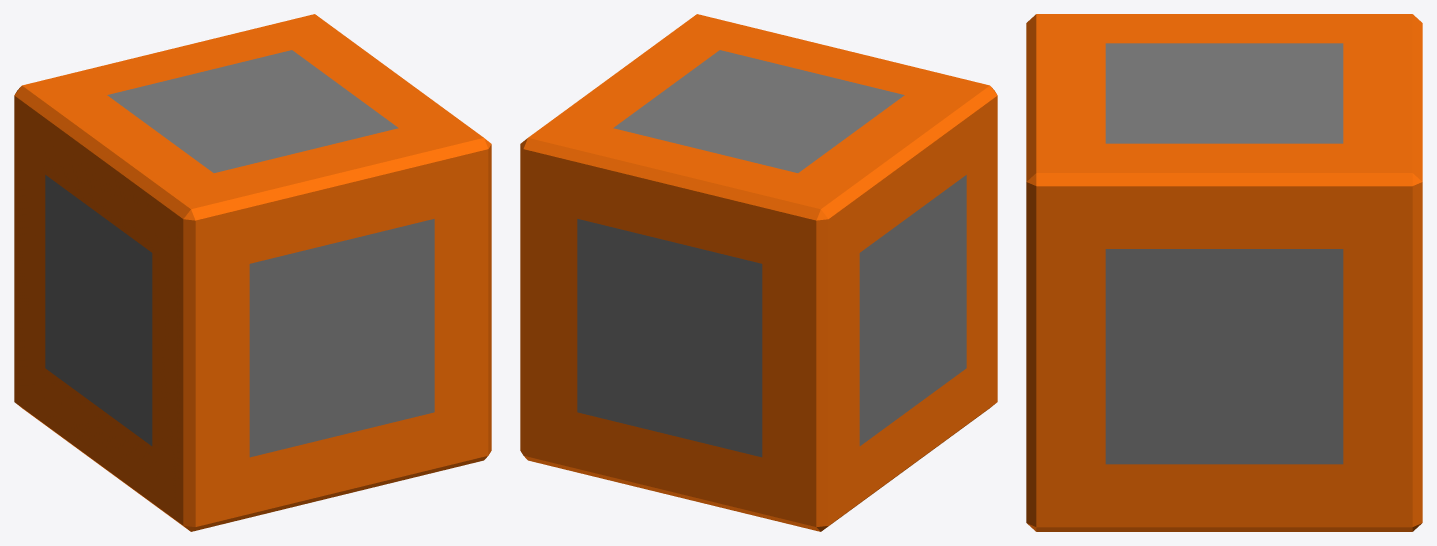
File: stone-10-full.glb
The picture shows the model from 3 angles, left to right: view 1: azimuth 30°, elevation 25°; view 2: azimuth 150°, elevation 25°; view 3: azimuth 270°, elevation 25°; orthographic projection. The views are drawn at different scales.
Parts seen in each view (by area): view 1: m.base, y-Cube, x-Cube, z-Cube; view 2: m.base, y-Cube, x-Cube, z-Cube; view 3: m.base, x-Cube, z-Cube.
Part boxes in pixels (x1=…): m.base: x1=14, y1=14, x2=491, y2=531; y-Cube: x1=249, y1=219, x2=434, y2=457; x-Cube: x1=45, y1=175, x2=152, y2=445; z-Cube: x1=107, y1=50, x2=398, y2=172; m.base: x1=520, y1=14, x2=997, y2=531; y-Cube: x1=577, y1=219, x2=762, y2=457; x-Cube: x1=859, y1=175, x2=966, y2=445; z-Cube: x1=613, y1=50, x2=904, y2=172; m.base: x1=1026, y1=14, x2=1422, y2=531; x-Cube: x1=1105, y1=249, x2=1343, y2=464; z-Cube: x1=1105, y1=43, x2=1343, y2=143.
Size of the model in its own units: 1 by 1 by 1.
